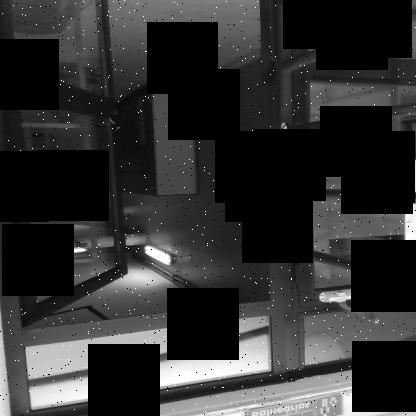Porte: (0, 1, 278, 348)
